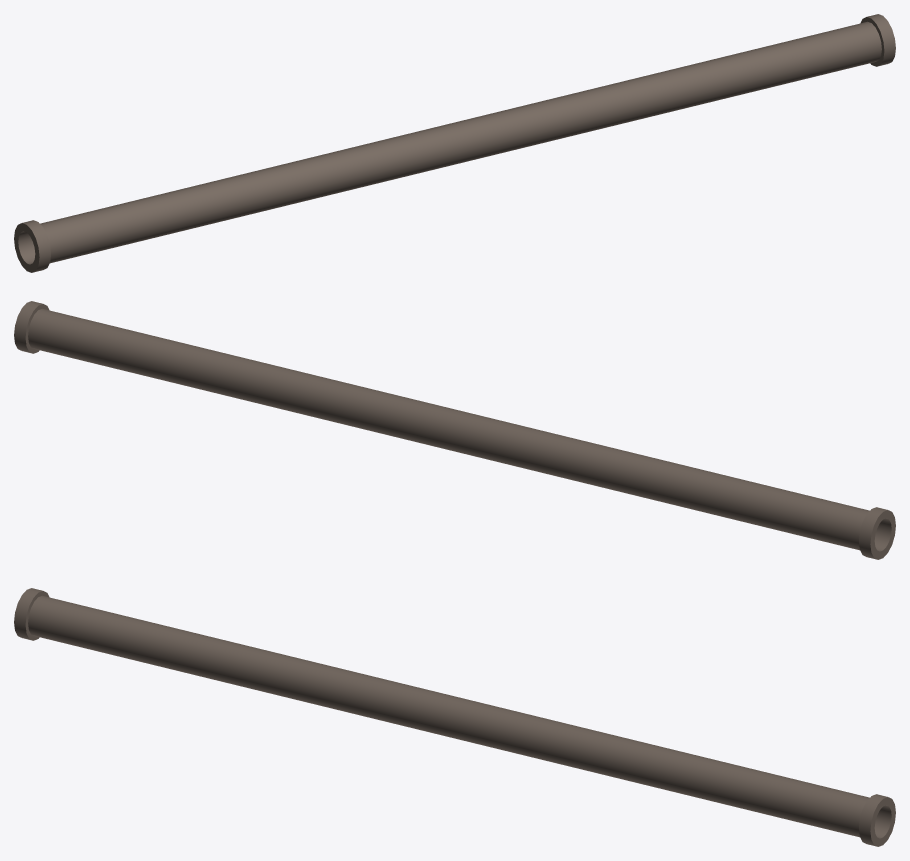
Rendered from pipe_3.fbx.
3 views of the same model, one above another, from view 1: azimuth 30°, elevation 25°; view 2: azimuth 150°, elevation 25°; view 3: azimuth 330°, elevation 25° (orthographic).
Visible parts, largest first — view 1: pipe_3; view 2: pipe_3; view 3: pipe_3.
Part boxes in pixels (x1,y1,x2,y2): pipe_3: (14, 14, 895, 272); pipe_3: (14, 301, 895, 559); pipe_3: (14, 588, 895, 846).
Size of the model in its own units: 1200 by 62.09 by 62.09.
